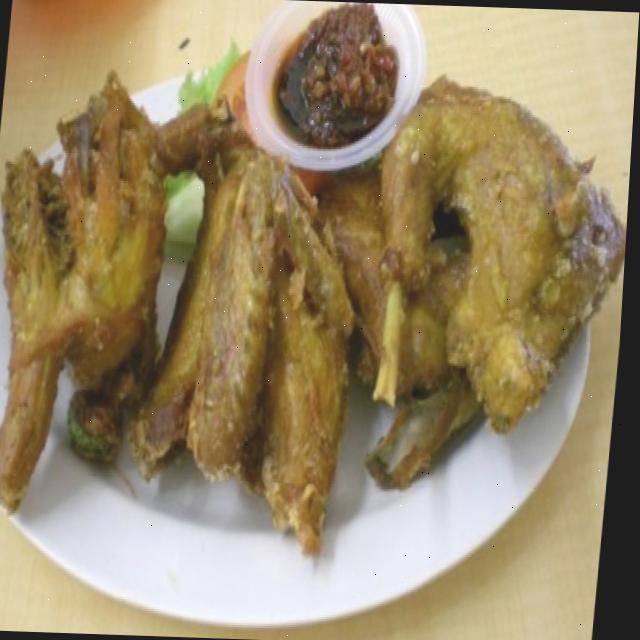鸡肉料理 含炸鸡: (0, 0, 639, 610)
